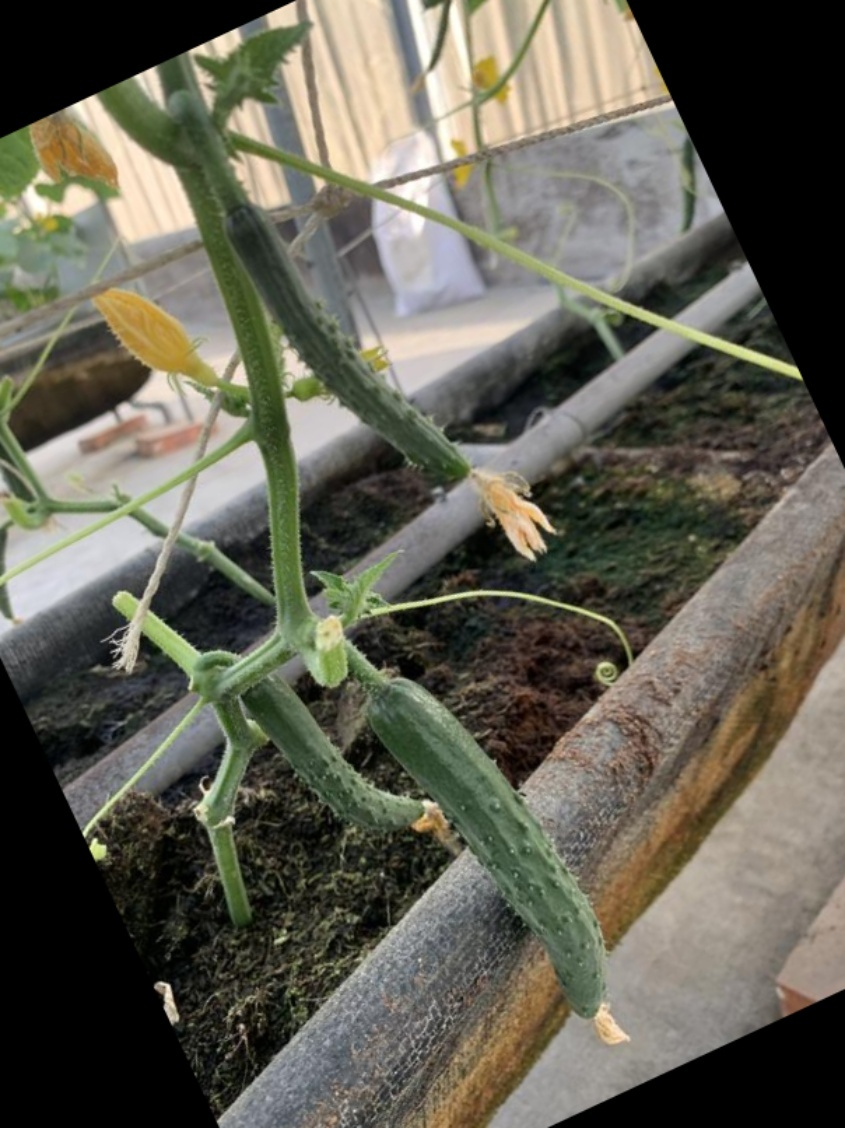growth: (242, 666, 434, 832)
